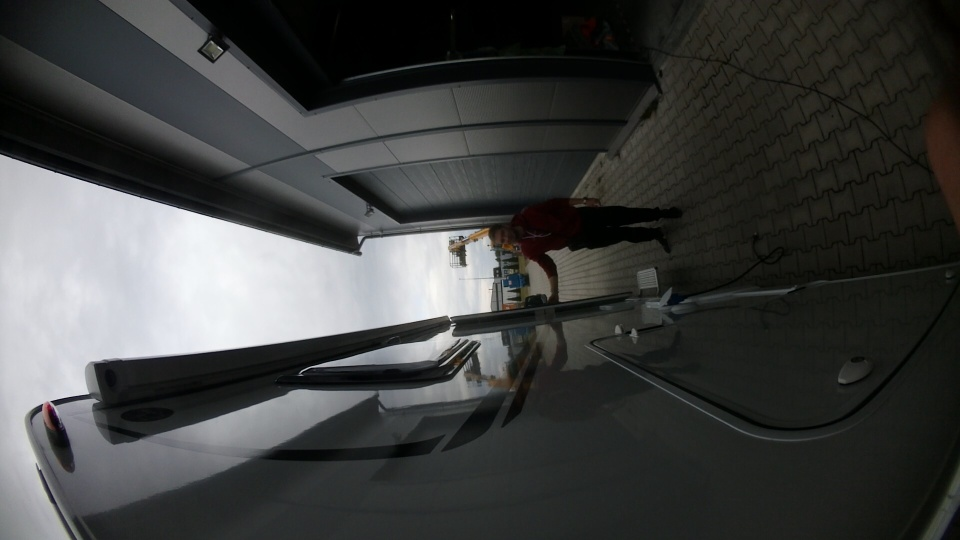step_back: (631, 264, 666, 296)
